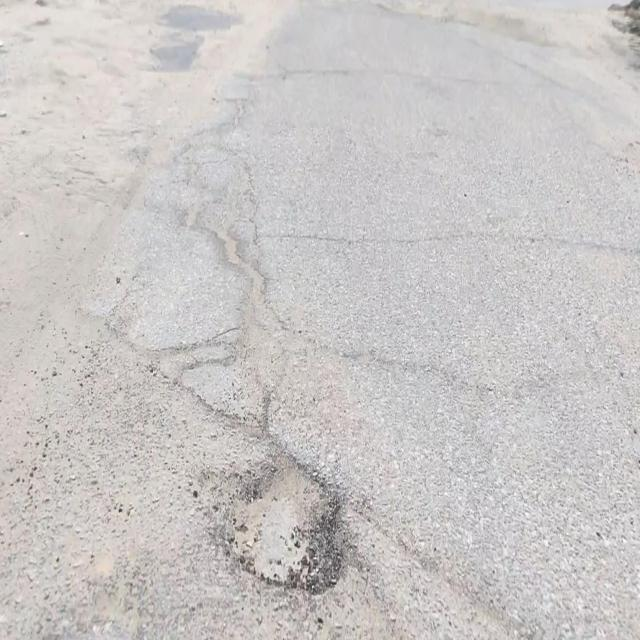Potholes: (201, 449, 351, 593)
